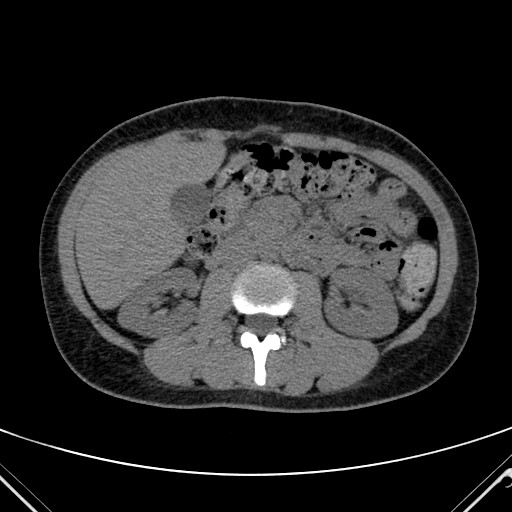vesicula: (167, 180, 214, 232)
